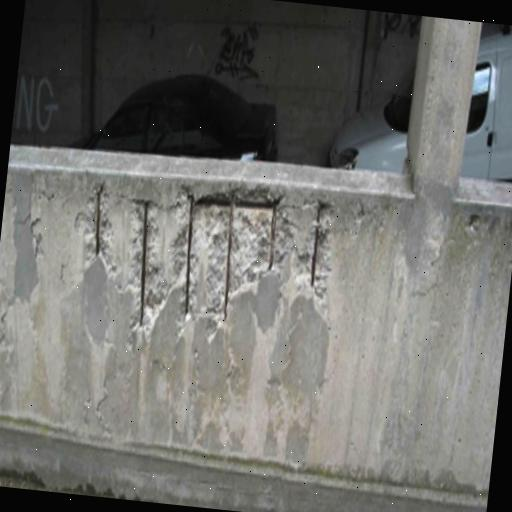spalling: (72, 172, 368, 358)
